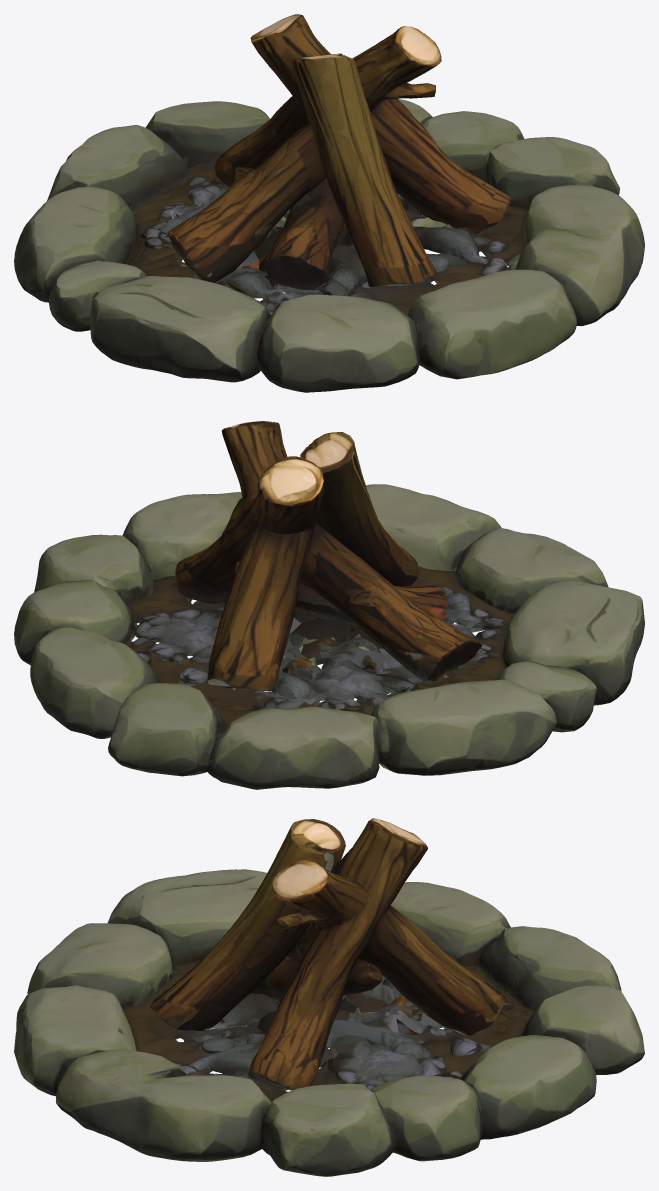
Rendered from struct_campfire.glb.
3 views of the same model, one above another, from view 1: azimuth 30°, elevation 25°; view 2: azimuth 150°, elevation 25°; view 3: azimuth 270°, elevation 25° (orthographic).
Parts seen in each view (by area): view 1: struct_campfire; view 2: struct_campfire; view 3: struct_campfire.
Part boxes in pixels (box(x1,y1,x2,y2)): struct_campfire: box(14, 14, 644, 392); struct_campfire: box(14, 421, 644, 789); struct_campfire: box(14, 818, 644, 1176).
Size of the model in its own units: 1.2 by 0.4786 by 1.2.
Materials: 1 (1 with a texture image).
